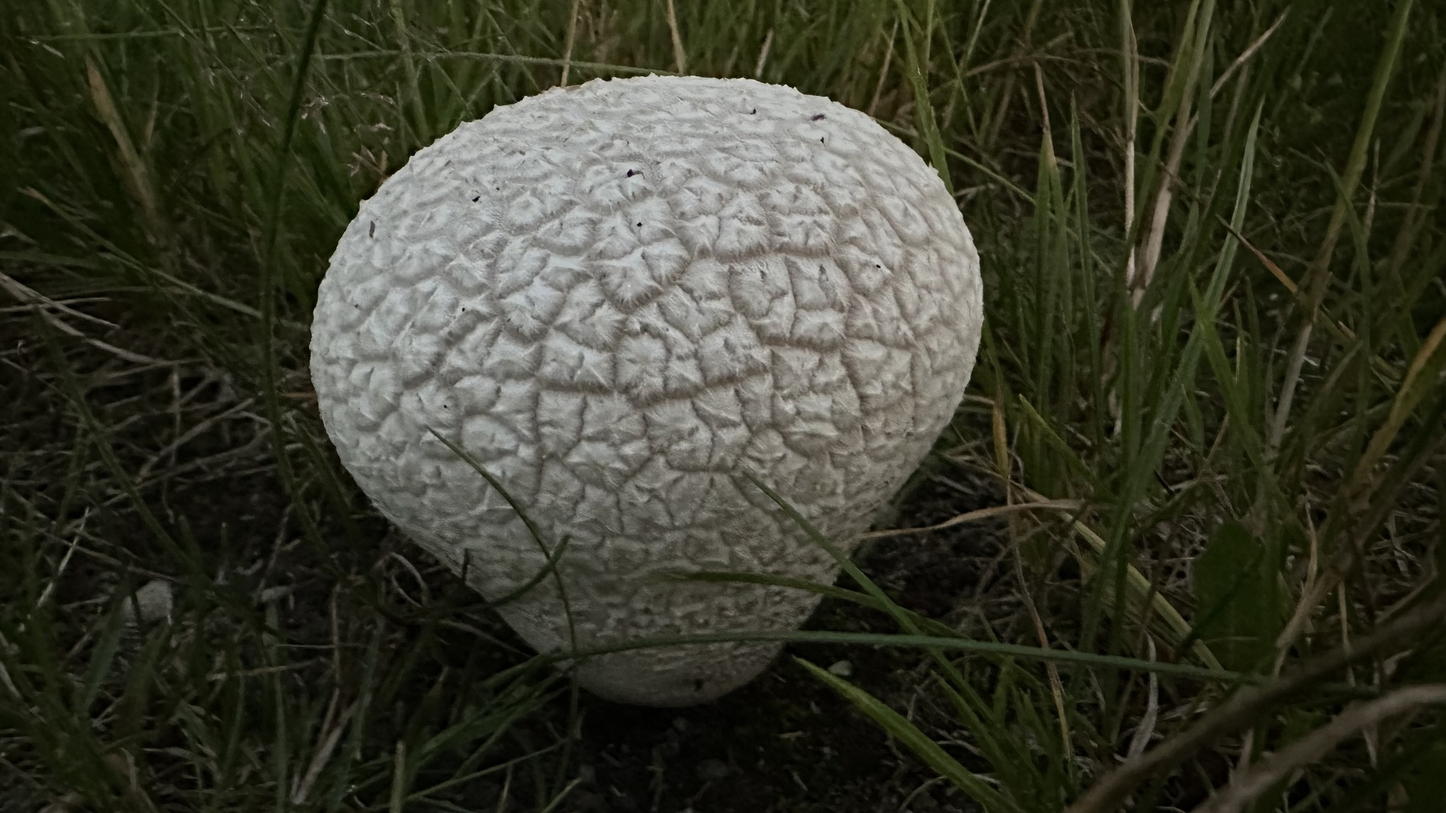cap: (310, 76, 983, 650)
